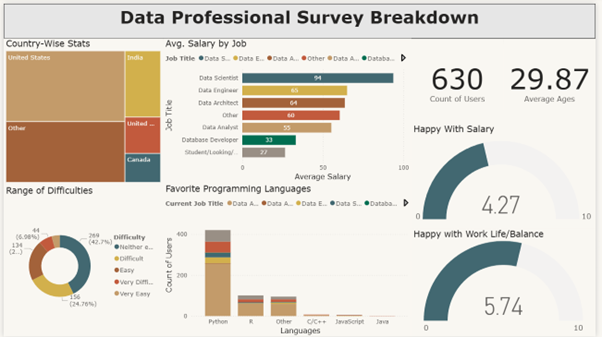

Layout of this report page (visuals, bound fields, positions):
{"tool":"powerbi","page":{"name":"Page 1","canvas":[1280,720],"ordinal":0},"visuals":[{"type":"textbox","box":[0,0,1280.3,75.5],"z":0},{"type":"card","fields":{"Values":["CountNonNull(Data Professional Survey.Unique ID)"]},"box":[880.7,75.9,200.3,184.1],"z":1000},{"type":"card","fields":{"Values":["Avg(Data Professional Survey.Q10 - Current Age)"]},"box":[1081,75.9,199,184.1],"z":2000},{"type":"barChart","title":"Avg. Salary by Job ","fields":{"Category":["Data Professional Survey.Q1 - Which Title Best Fits your Current Role?.1"],"Y":["Avg(Data Professional Survey.Average Salary)"],"Series":["Data Professional Survey.Q1 - Which Title Best Fits your Current Role?.1"]},"box":[344.4,75.5,536.5,312.9],"z":3000},{"type":"columnChart","title":"Favorite Programming Languages","fields":{"Category":["Data Professional Survey.Q5 - Favorite Programming Language.1"],"Y":["CountNonNull(Data Professional Survey.Unique ID)"],"Series":["Data Professional Survey.Q1 - Which Title Best Fits your Current Role?.1"]},"box":[344.4,388.3,536.5,332.1],"z":4000},{"type":"treemap","title":"Country-Wise Stats","fields":{"Details":["Data Professional Survey.Q11 - Which Country do you live in?.1"],"Values":["CountNonNull(Data Professional Survey.Q11 - Which Country do you live in?.1)"]},"box":[0,75.5,344.4,317],"z":5000},{"type":"gauge","title":"Happy with Work Life/Balance ","fields":{"Y":["Avg(Data Professional Survey.Q6 - How Happy are you in your Current Position with the following? (Work/Life Balance))"],"MaxValue":["Max(Data Professional Survey.Q6 - How Happy are you in your Current Position with the following? (Work/Life Balance))"],"MinValue":["Min(Data Professional Survey.Q6 - How Happy are you in your Current Position with the following? (Work/Life Balance))"]},"box":[880.7,486.4,399.3,233.9],"z":6000},{"type":"gauge","title":"Happy With Salary","fields":{"Y":["Avg(Data Professional Survey.Q6 - How Happy are you in your Current Position with the following? (Salary))"],"MinValue":["Min(Data Professional Survey.Q6 - How Happy are you in your Current Position with the following? (Salary))"],"MaxValue":["Max(Data Professional Survey.Q6 - How Happy are you in your Current Position with the following? (Salary))"]},"box":[880.7,260,399.3,226.4],"z":7000},{"type":"donutChart","title":"Range of Difficulties","fields":{"Y":["CountNonNull(Data Professional Survey.Q7 - How difficult was it for you to break into Data?)"],"Category":["Data Professional Survey.Q7 - How difficult was it for you to break into Data?"]},"box":[0,392,344,328],"z":7001}]}

Visuals, with their boxes in screenshot pixels (x1, y1, x2, y2), scaled from the page's 1280x720 canvas onto the 602x337 screenshot:
textbox: [x1=0, y1=0, x2=601, y2=35]
card - CountNonNull(Data Professional Survey.Unique ID): [x1=414, y1=36, x2=508, y2=122]
card - Avg(Data Professional Survey.Q10 - Current Age): [x1=508, y1=36, x2=601, y2=122]
"Avg. Salary by Job " barChart: [x1=162, y1=35, x2=414, y2=182]
"Favorite Programming Languages" columnChart: [x1=162, y1=182, x2=414, y2=336]
"Country-Wise Stats" treemap: [x1=0, y1=35, x2=162, y2=184]
"Happy with Work Life/Balance " gauge: [x1=414, y1=228, x2=601, y2=336]
"Happy With Salary" gauge: [x1=414, y1=122, x2=601, y2=228]
"Range of Difficulties" donutChart: [x1=0, y1=183, x2=162, y2=336]
